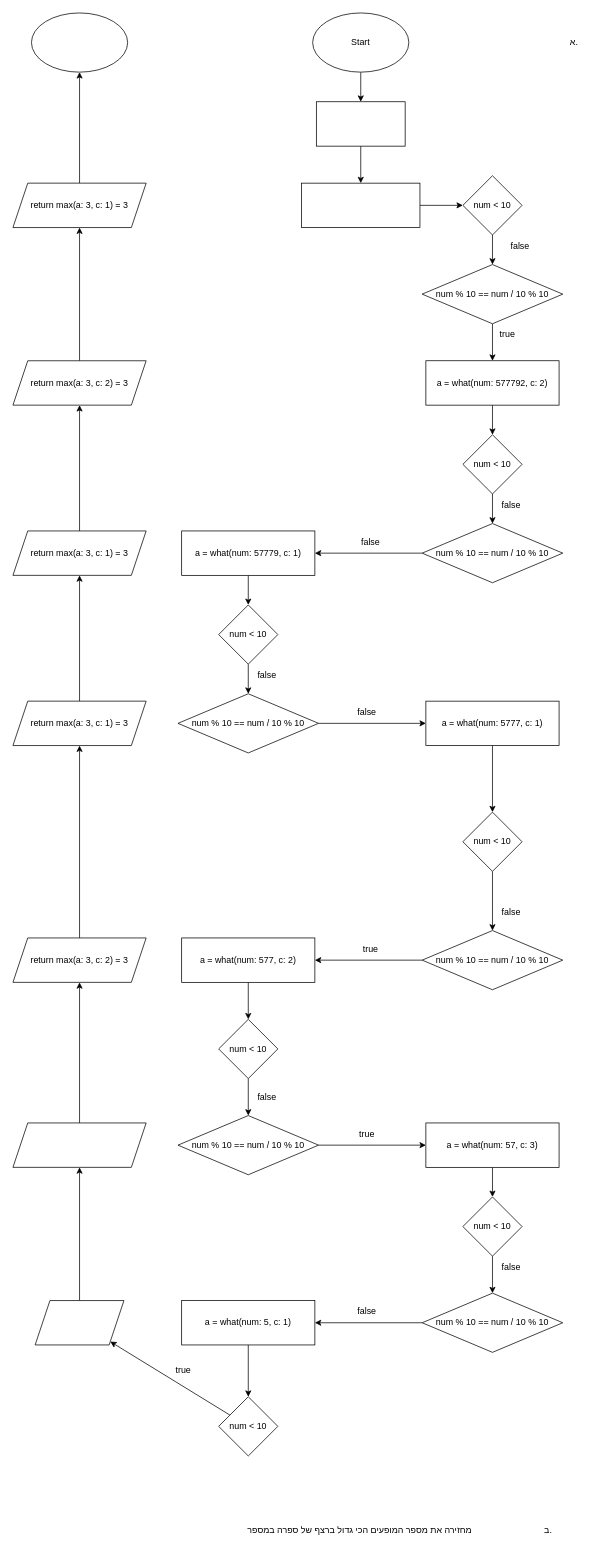
The diagram is 598 pixels wide and 1554 high, and some of its shapes have lost their labels. The box of each missing label's shape, as (x1, y1, x2, y2) in pixels:
End: (31, 12, 128, 72)
return c = 1: (34, 1300, 124, 1345)
return max(a: 1, c: 3) = 3: (12, 1122, 146, 1167)
what(num: 5777922): (316, 101, 405, 146)
what(num: 5777922, c: 1): (301, 182, 420, 228)
